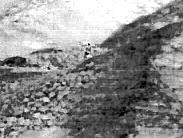Target: (82, 42, 96, 55)
